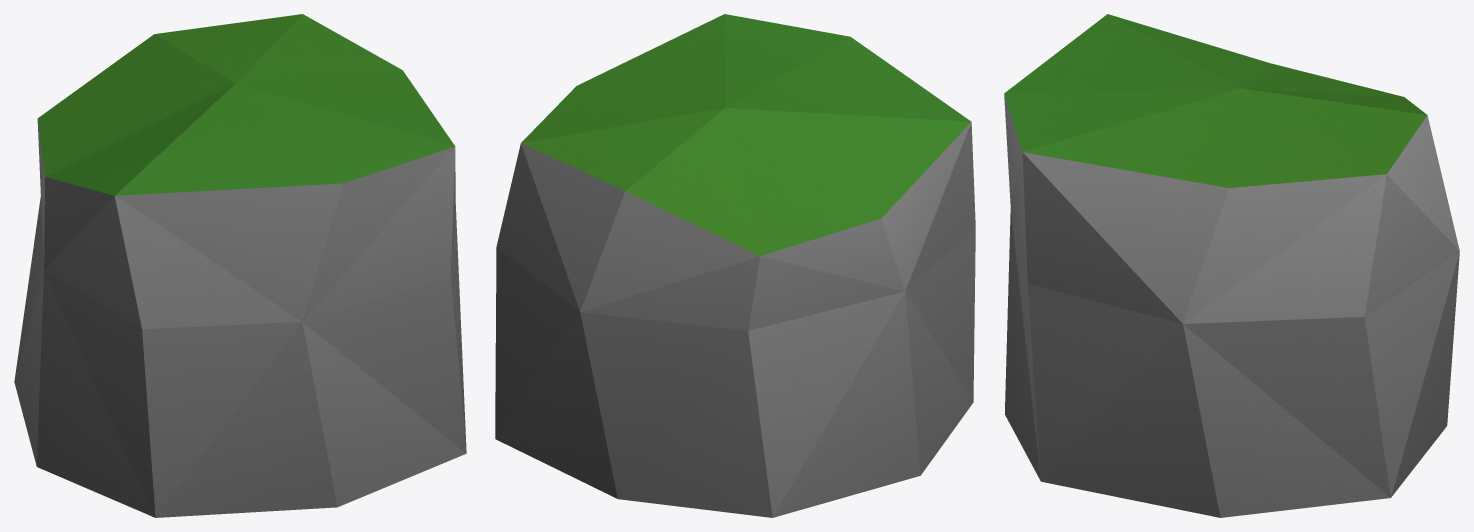
3 views of the same model, side by side, from view 1: azimuth 30°, elevation 25°; view 2: azimuth 150°, elevation 25°; view 3: azimuth 270°, elevation 25° (orthographic). The views are drawn at different scales.
Parts seen in each view (by area): view 1: Surface_05; view 2: Surface_05; view 3: Surface_05.
Boxes of the visible parts, x1,y1,x2,y2 form: Surface_05: [14, 14, 466, 517]; Surface_05: [495, 14, 975, 517]; Surface_05: [1004, 14, 1459, 517].
Size of the model in its own units: 1271 by 1041 by 1265.
